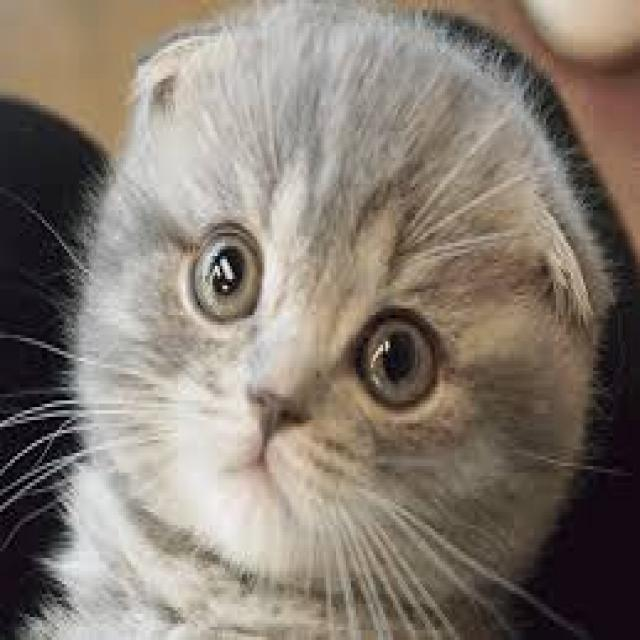cat-face: (52, 0, 588, 607)
